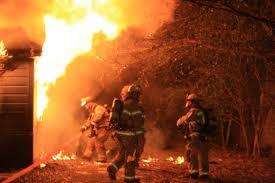fire: (37, 16, 117, 95)
